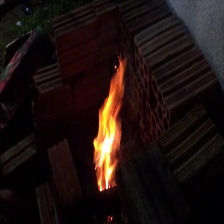fire: (85, 54, 130, 192)
